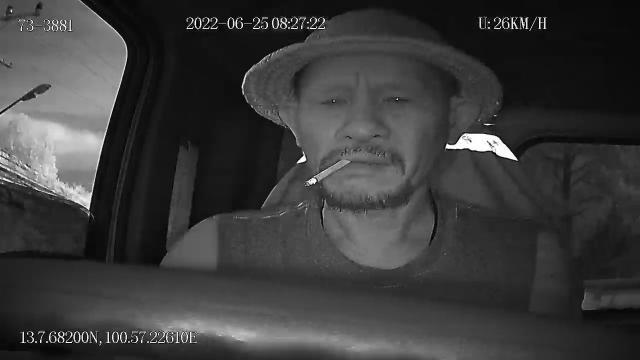SafeDriving: (374, 84, 418, 112), (311, 85, 354, 113)
Smoking: (304, 156, 354, 186)
